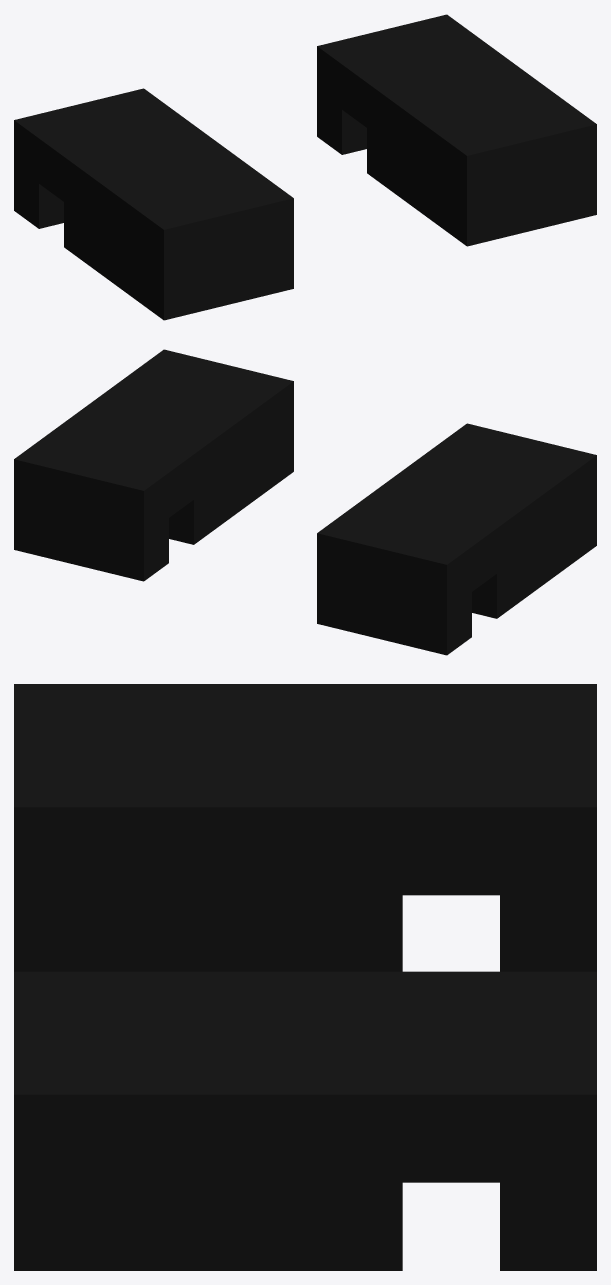
Rendered from character foot modeling.obj.
The picture shows the model from 3 angles, top to bottom: view 1: azimuth 30°, elevation 25°; view 2: azimuth 150°, elevation 25°; view 3: azimuth 270°, elevation 25°; orthographic projection. The views are drawn at different scales.
Bounding box in the file's own units: 1 × 0.2 × 0.6.
1 material, 1 textured.
